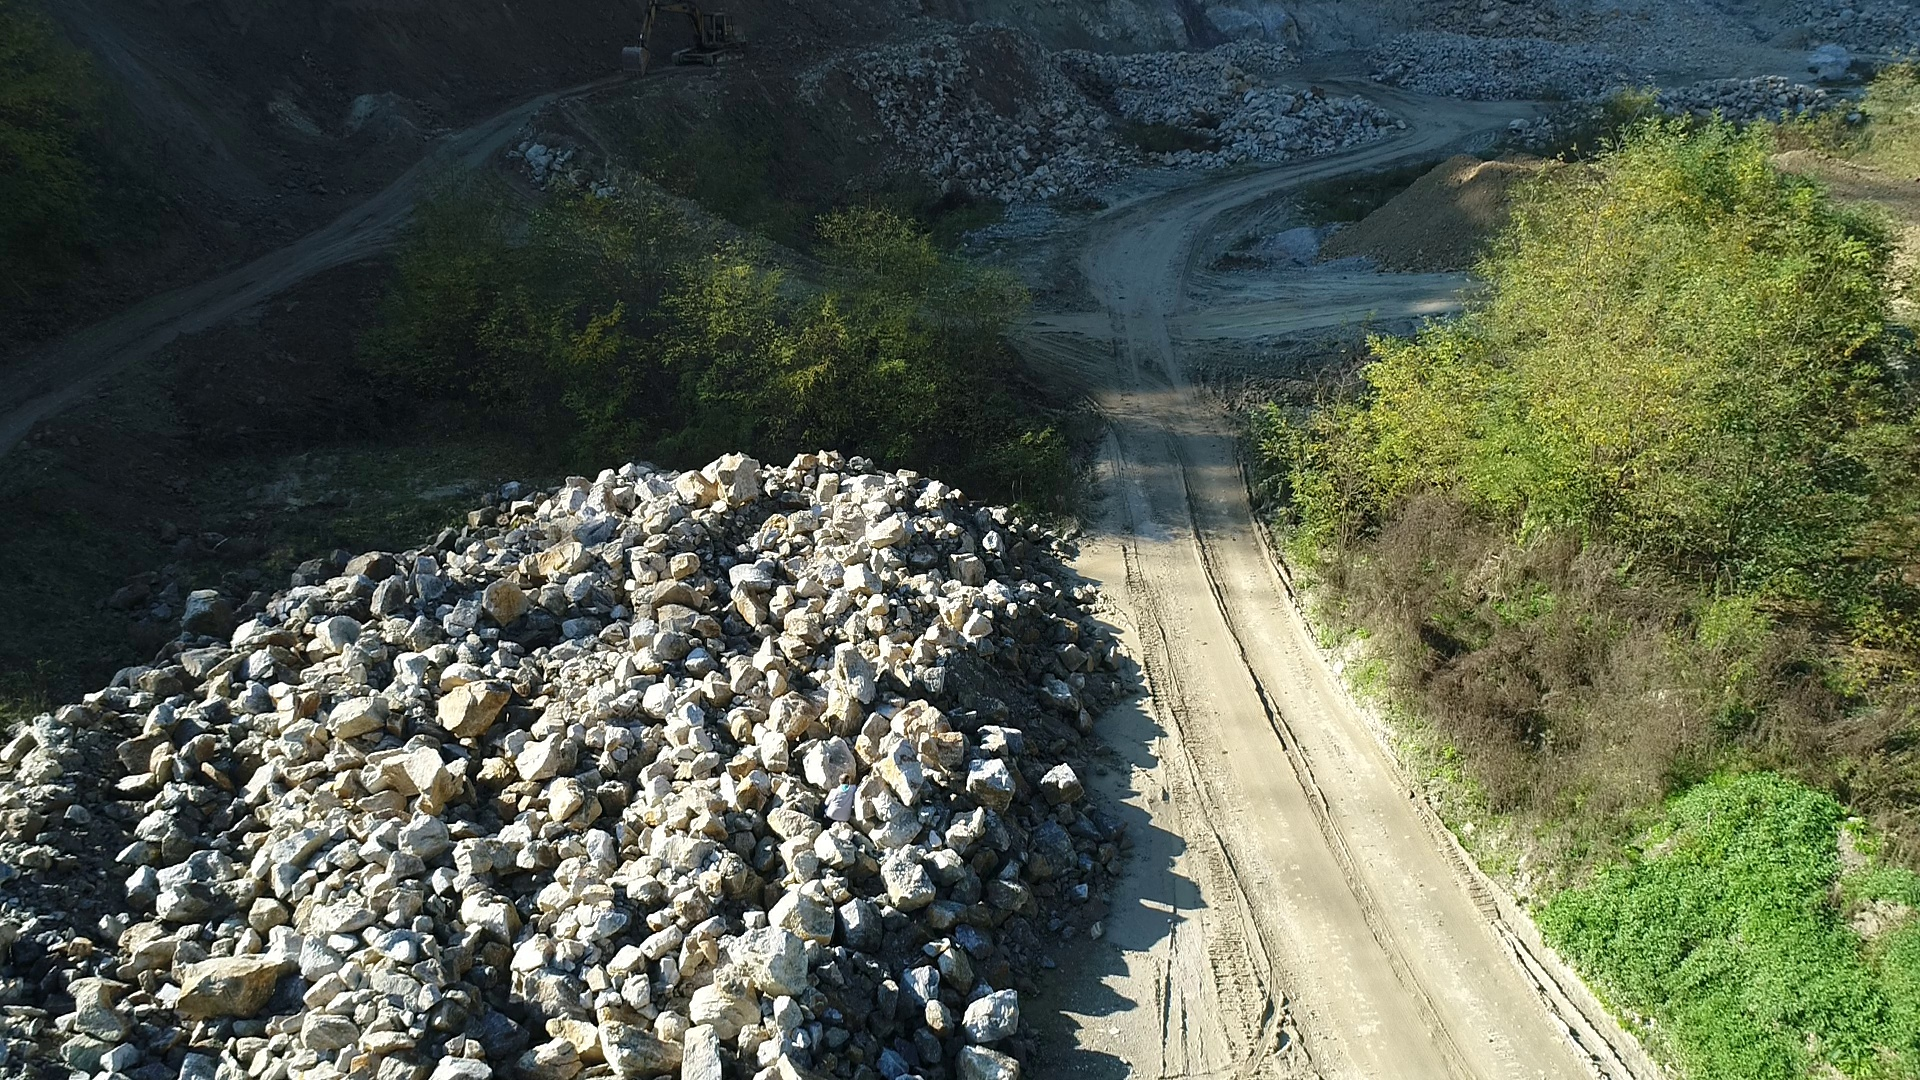person: (819, 773, 859, 829)
